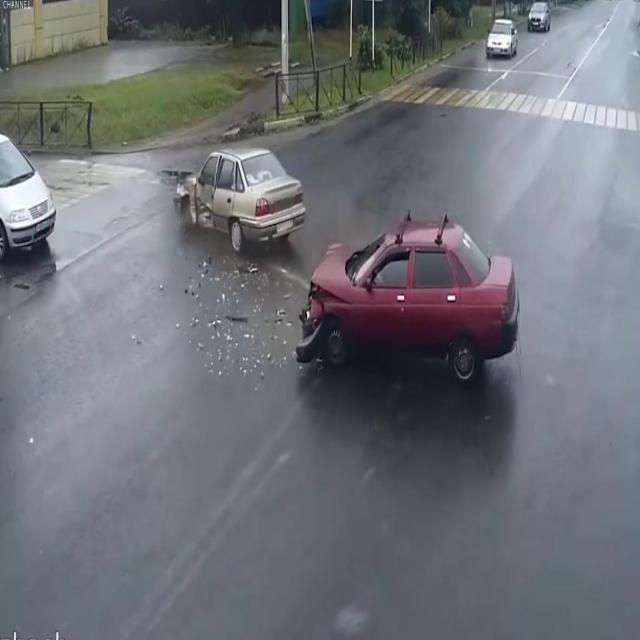accident: (171, 130, 527, 406)
